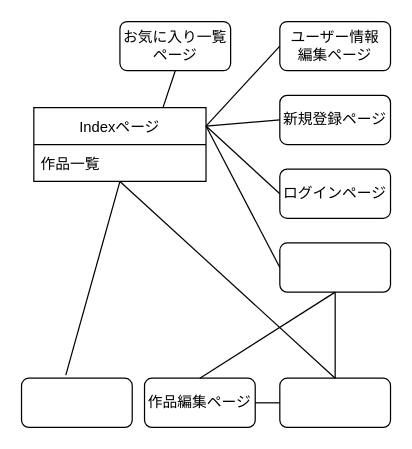
Some shapes in this 412 by 449 pixel diagram are drawn without their labels. The centre of each missing label's shape, as x and y in pixels:
"マイページ" belongs at pixel 335 267.
"作品投稿ページ" belongs at pixel 76 402.
"作品詳細ページ" belongs at pixel 335 402.
